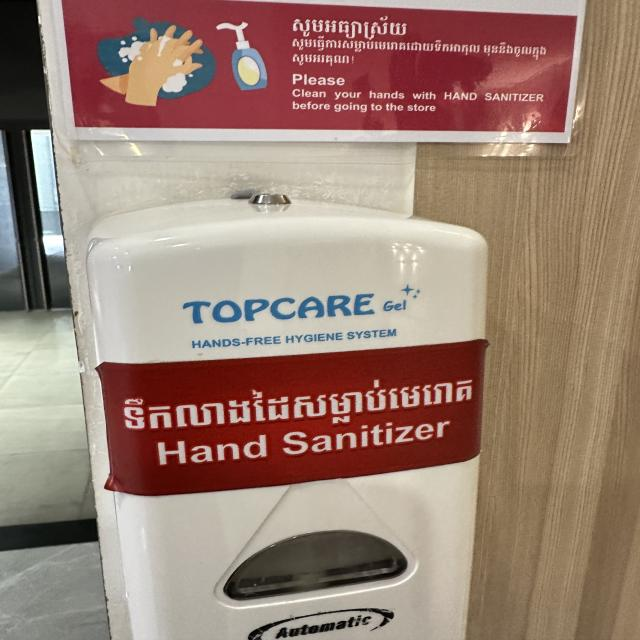1: (284, 38, 549, 59)
Yolov11_80vkh: (110, 367, 476, 439), (290, 14, 417, 36), (283, 54, 353, 71)
